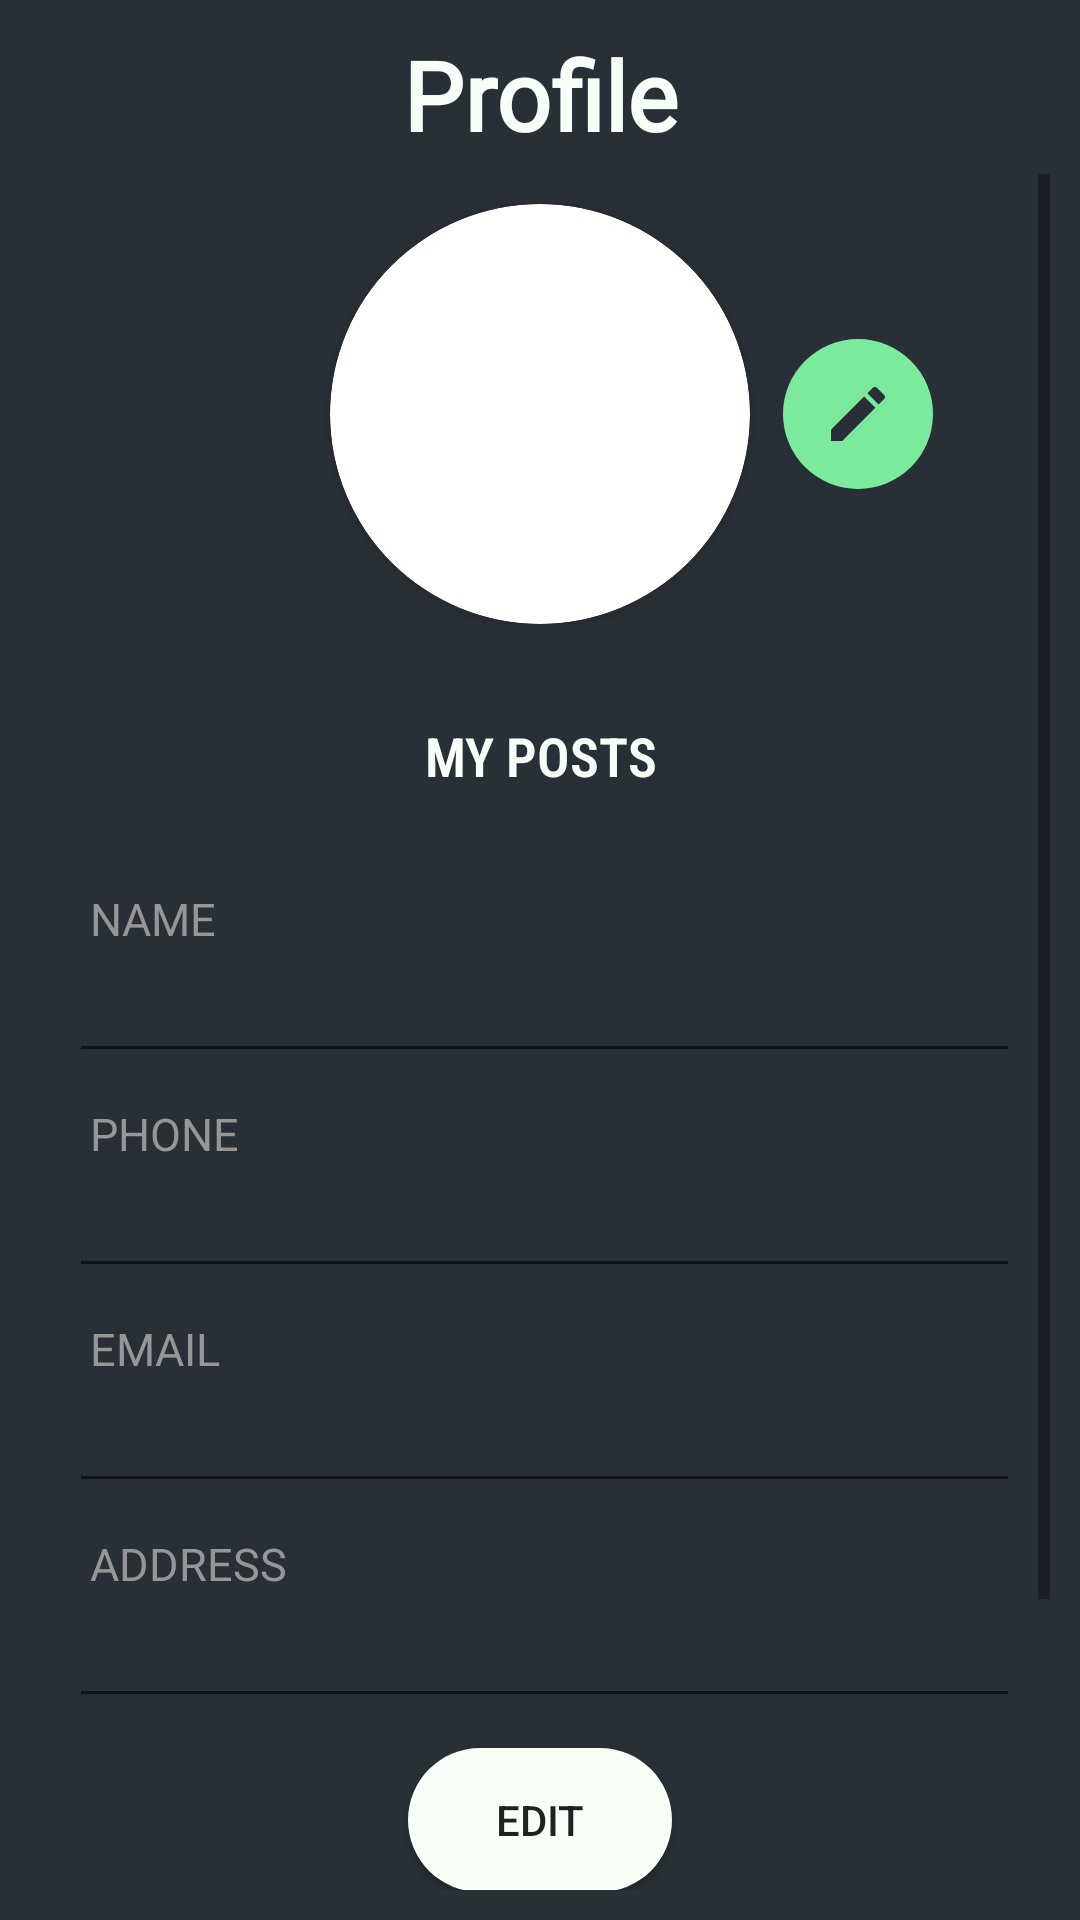

Named icons in this screenshot (1080w x 1920h) and their bounding boxes, (x1, y1, x2, y2):
edit: (783, 339, 933, 489)
